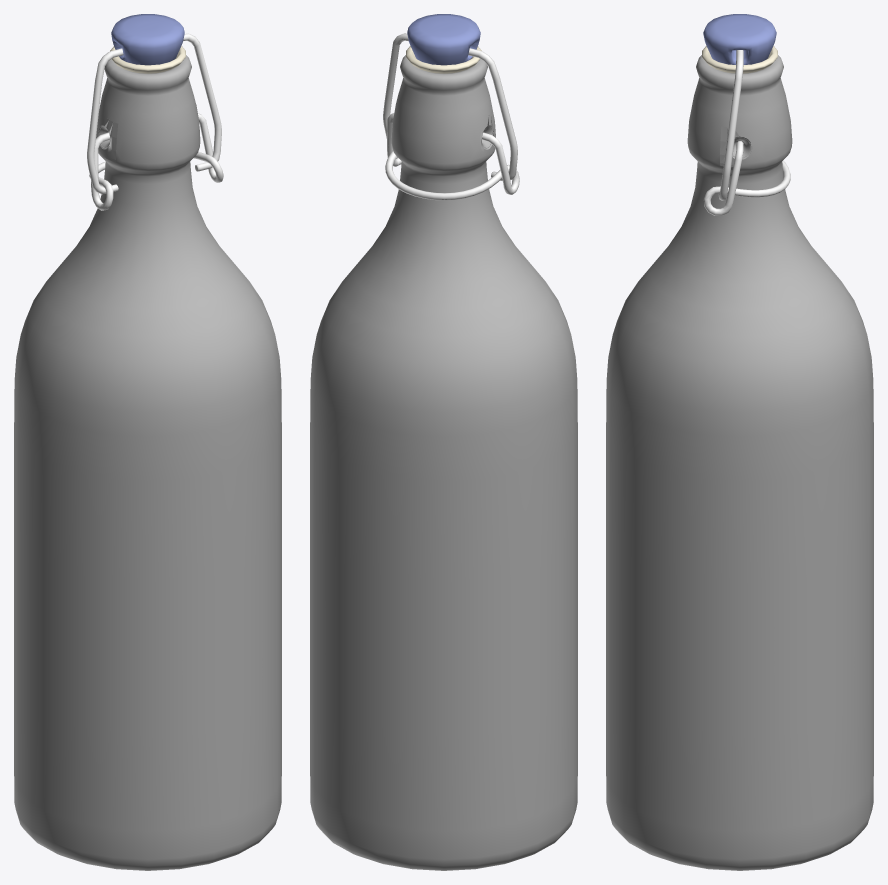
File: Bottle.fbx
3 renders of one model, left to right at view 1: azimuth 30°, elevation 25°; view 2: azimuth 150°, elevation 25°; view 3: azimuth 270°, elevation 25°, orthographic.
Parts seen in each view (by area): view 1: Bottle; view 2: Bottle; view 3: Bottle.
Part boxes in pixels (left/top/right/bottom): Bottle: left=14, top=14, right=281, bottom=870; Bottle: left=310, top=14, right=577, bottom=870; Bottle: left=606, top=14, right=873, bottom=870.
Size of the model in its own units: 18.01 by 58.98 by 18.01.
